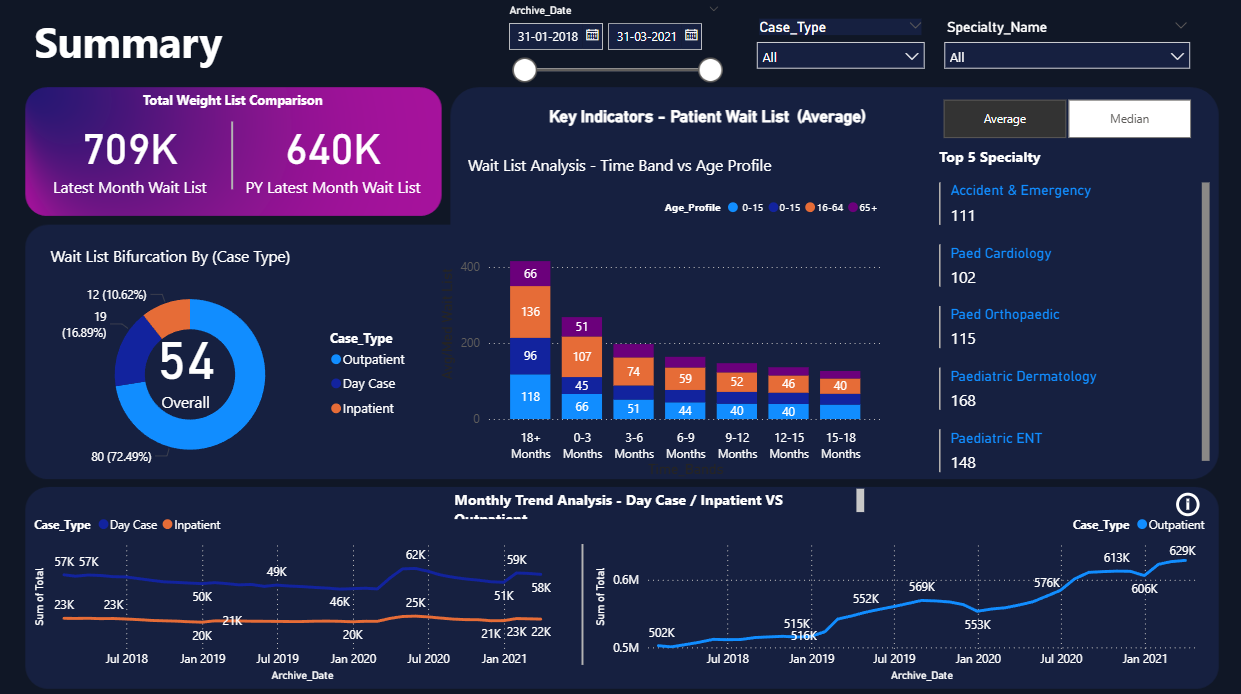

The dashboard page shown, as its layout file describes it:
{"tool":"powerbi","page":{"name":"Summary","canvas":[1280,720],"ordinal":0},"visuals":[{"type":"card","fields":{"Values":["All_Data.Latest Month Wait List"]},"box":[48,96,176,128],"z":0},{"type":"card","fields":{"Values":["All_Data.PY Latest Month Wait List"]},"box":[240,96,208,128],"z":1000},{"type":"slicer","fields":{"Values":["Calculation method.Calc Method"]},"box":[943.4,96.5,304,53.1],"z":2000},{"type":"donutChart","fields":{"Category":["All_Data.Case_Type"],"Y":["All_Data.Avg/Med Wait List"]},"box":[48.6,272.9,382.7,224.3],"z":3000},{"type":"columnChart","fields":{"Y":["All_Data.Avg/Med Wait List"],"Category":["All_Data.Time_Bands"],"Series":["All_Data.Age_Profile"]},"box":[447.6,195.4,464.5,300.4],"z":4000},{"type":"card","fields":{"Values":["All_Data.NoDataLeft"]},"box":[73.6,556.2,480.2,126.7],"z":5000},{"type":"lineChart","fields":{"Y":["Sum(All_Data.Total)"],"Series":["All_Data.Case_Type"],"Category":["All_Data.Archive_Date"]},"box":[32.6,518.8,542.9,185.8],"z":6000},{"type":"card","fields":{"Values":["All_Data.NoDataRight"]},"box":[663.5,553.8,480.2,126.7],"z":7000},{"type":"lineChart","fields":{"Category":["All_Data.Archive_Date"],"Y":["Sum(All_Data.Total)"],"Series":["All_Data.Case_Type"]},"box":[608,518.8,639.4,185.8],"z":8000},{"type":"slicer","fields":{"Values":["All_Data.Archive_Date"]},"box":[512,0,240,96],"z":9000},{"type":"slicer","fields":{"Values":["All_Data.Case_Type"]},"box":[768,16,192,64],"z":10000},{"type":"slicer","fields":{"Values":["All_Data.Specialty_Name"]},"box":[960,16,272,64],"z":11000},{"type":"textbox","box":[32.6,8.4,319.7,80.8],"z":12000},{"type":"multiRowCard","fields":{"Values":["All_Data.Avg/Med Wait List","All_Data.Specialty_Name"]},"box":[960.3,183.4,287.1,312.5],"z":13000},{"type":"card","fields":{"Values":["All_Data.Avg/Med Wait List"]},"box":[136.3,319.7,113.4,111],"z":14000},{"type":"shape","box":[103.8,125.5,272.7,70],"z":15000},{"type":"textbox","box":[143.6,89.3,208.7,36.2],"z":16000},{"type":"textbox","box":[48.3,247.3,278.7,35],"z":17000},{"type":"textbox","box":[463.3,497.1,430.7,41],"z":18000},{"type":"textbox","box":[960.3,146,183.4,37.4],"z":19000},{"type":"textbox","box":[476.5,154.4,331.8,41],"z":20000},{"type":"shape","box":[591.2,558.6,16.9,124.3],"z":21000},{"type":"card","fields":{"Values":["All_Data.Dynamic Title"]},"box":[511.5,96.5,431.9,49.5],"z":22000},{"type":"actionButton","box":[1204,498.3,54.3,39.8],"z":23000}]}

Visuals, with their boxes in screenshot pixels (x1, y1, x2, y2), scaled from the page's 1280x720 canvas onto the 1241x694 screenshot:
card - All_Data.Latest Month Wait List: box(47, 93, 217, 216)
card - All_Data.PY Latest Month Wait List: box(233, 93, 434, 216)
slicer - Calculation method.Calc Method: box(915, 93, 1209, 144)
donutChart - All_Data.Case_Type x All_Data.Avg/Med Wait List: box(47, 263, 418, 479)
columnChart - All_Data.Avg/Med Wait List x All_Data.Time_Bands: box(434, 188, 884, 478)
card - All_Data.NoDataLeft: box(71, 536, 537, 658)
lineChart - Sum(All_Data.Total) x All_Data.Case_Type: box(32, 500, 558, 679)
card - All_Data.NoDataRight: box(643, 534, 1109, 656)
lineChart - All_Data.Archive_Date x Sum(All_Data.Total): box(589, 500, 1209, 679)
slicer - All_Data.Archive_Date: box(496, 0, 729, 93)
slicer - All_Data.Case_Type: box(745, 15, 931, 77)
slicer - All_Data.Specialty_Name: box(931, 15, 1194, 77)
textbox: box(32, 8, 342, 86)
multiRowCard - All_Data.Avg/Med Wait List x All_Data.Specialty_Name: box(931, 177, 1209, 478)
card - All_Data.Avg/Med Wait List: box(132, 308, 242, 415)
shape: box(101, 121, 365, 188)
textbox: box(139, 86, 342, 121)
textbox: box(47, 238, 317, 272)
textbox: box(449, 479, 867, 519)
textbox: box(931, 141, 1109, 177)
textbox: box(462, 149, 784, 188)
shape: box(573, 538, 590, 658)
card - All_Data.Dynamic Title: box(496, 93, 915, 141)
actionButton: box(1167, 480, 1220, 519)
